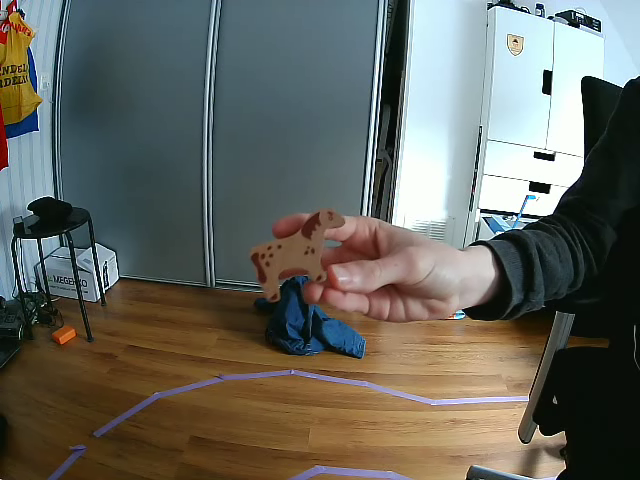paard: (249, 207, 344, 302)
